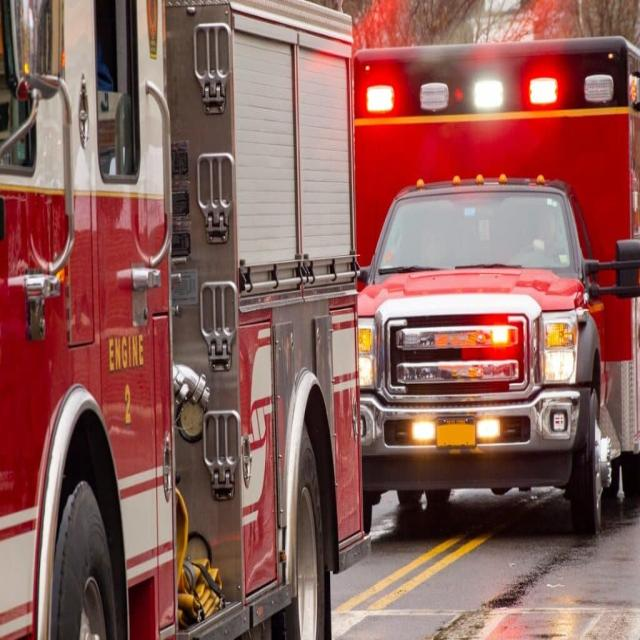Firetruck: (0, 1, 370, 639), (363, 32, 640, 551)
